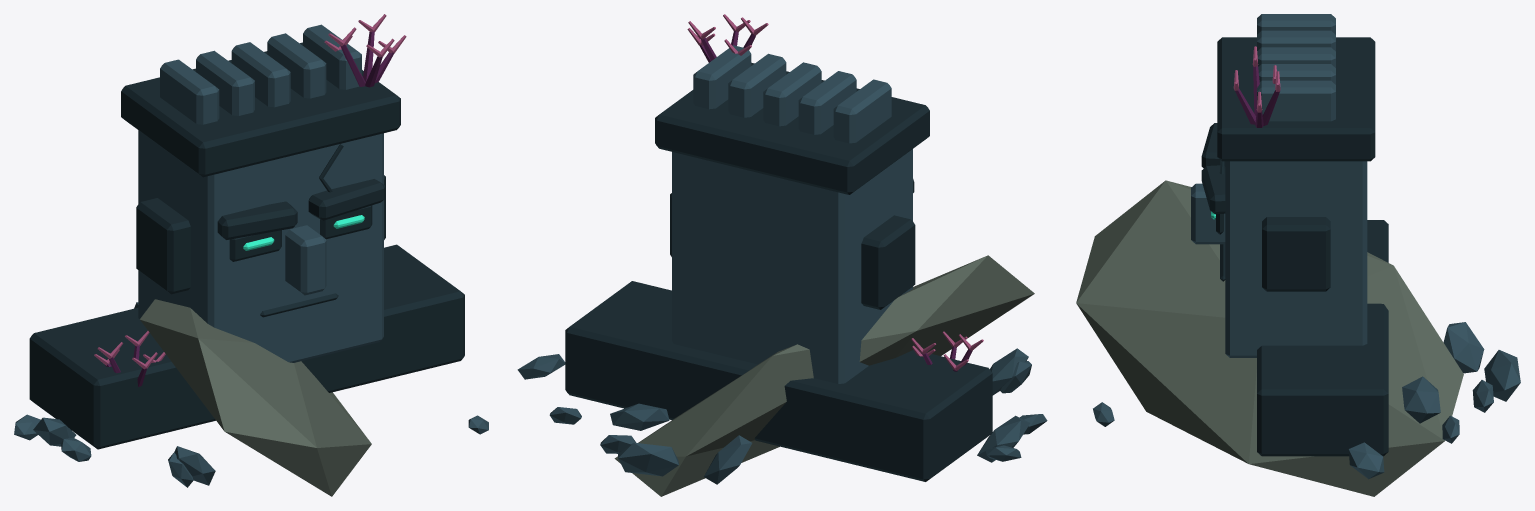
The model's file is 03_buried_colossus.obj.
3 views of the same model, side by side, from view 1: azimuth 30°, elevation 25°; view 2: azimuth 150°, elevation 25°; view 3: azimuth 270°, elevation 25° (orthographic). The views are drawn at different scales.
Visible parts, largest first — view 1: 03_buried_colossus; view 2: 03_buried_colossus; view 3: 03_buried_colossus.
Boxes of the visible parts, x1,y1,x2,y2 form: 03_buried_colossus: [14, 14, 488, 496]; 03_buried_colossus: [517, 14, 1047, 496]; 03_buried_colossus: [1076, 14, 1520, 496].
Size of the model in its own units: 10.02 by 9 by 8.45.
Materials: 1 (1 with a texture image).
